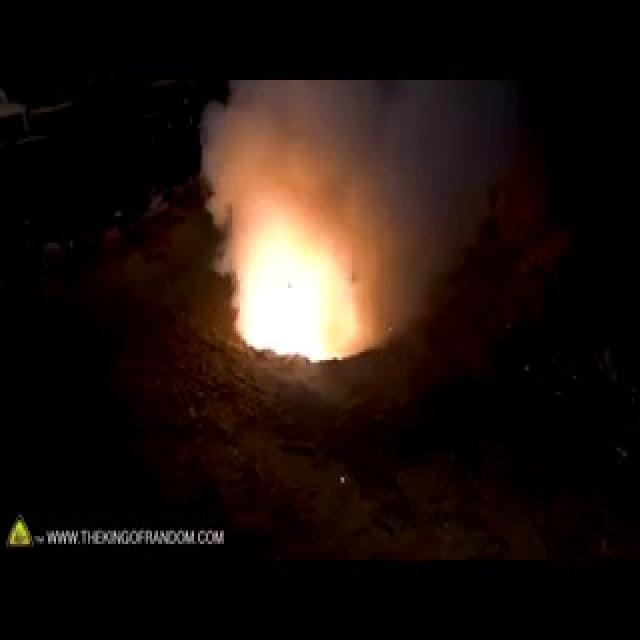fire: (220, 261, 358, 408)
